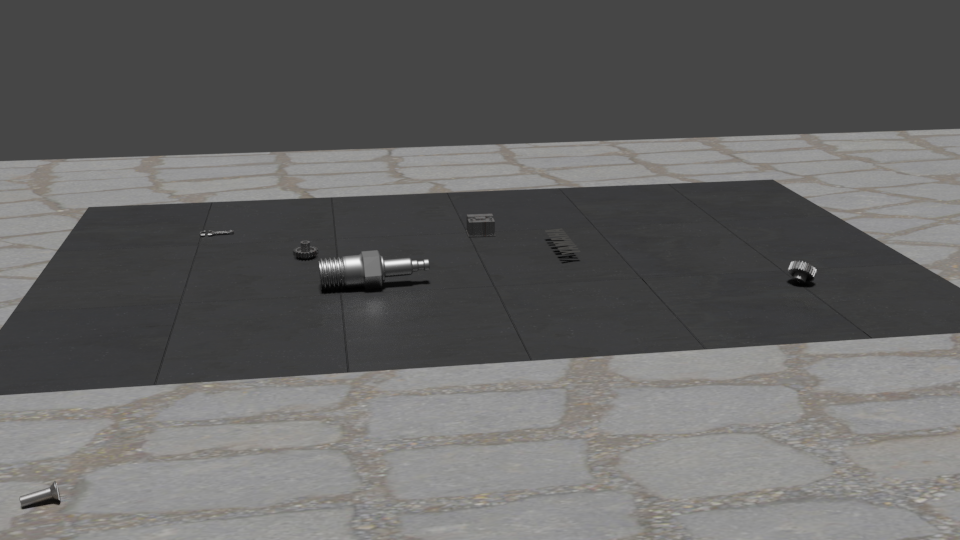yamaha_letters: (544, 227, 581, 255)
